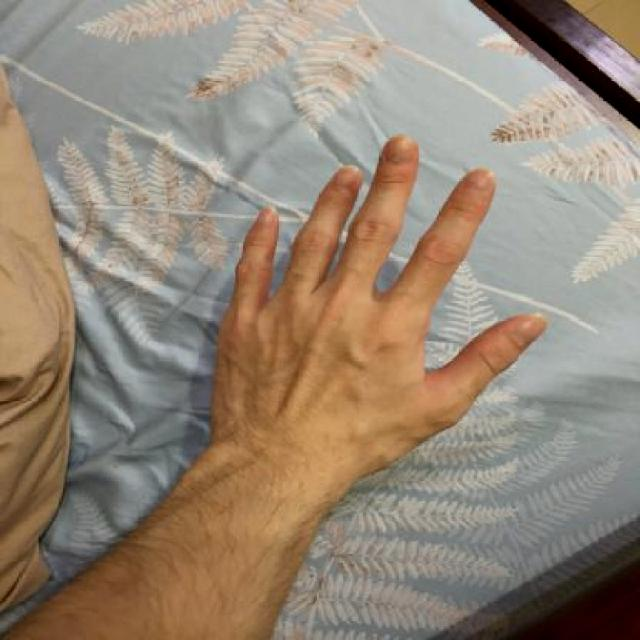no_glove: (194, 119, 555, 512)
